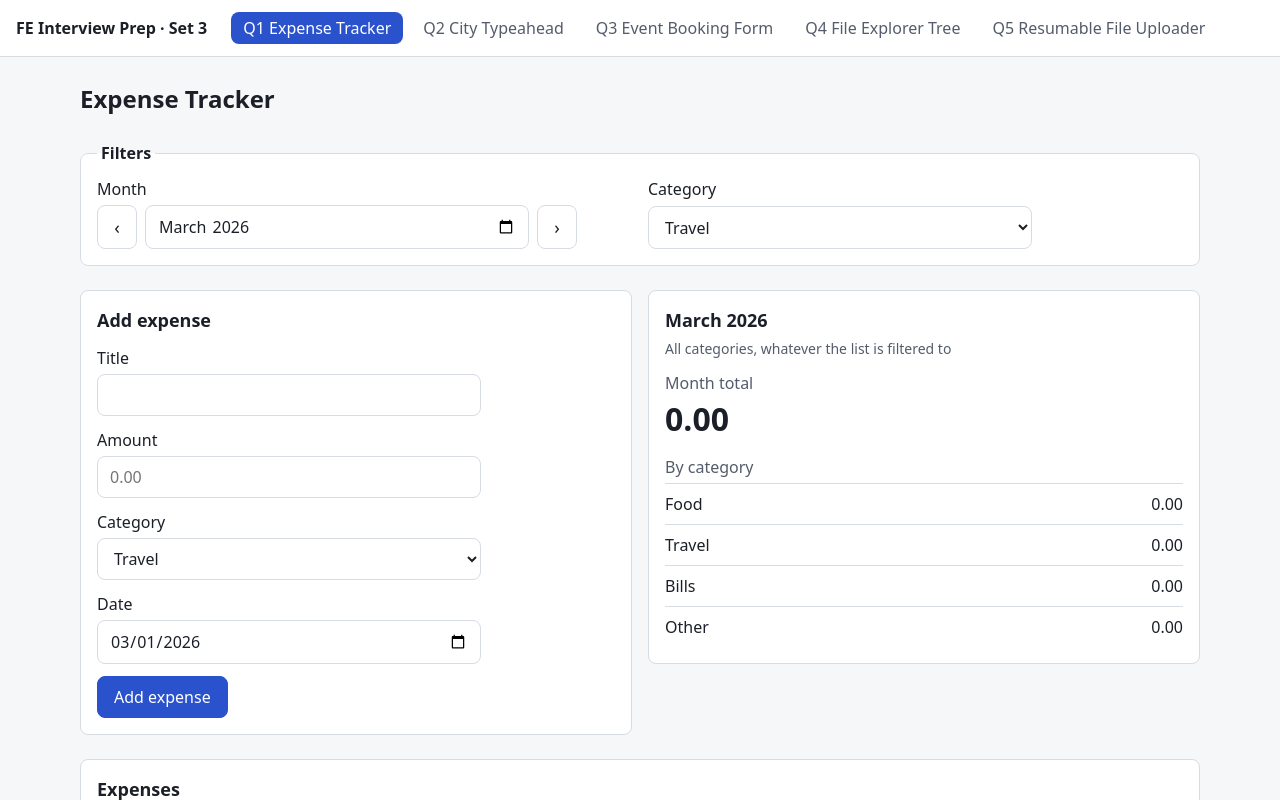
Scenario: ExpensesPage › adds a new expense into the viewed month and category and says where it went
This screenshot has width=1280, height=800.
Expected: the date field labelled "Date" holds "2026-03-01", [97,620,481,664]
Expected: the dropdown labelled "Category" below "Title" shows "Travel", [97,538,481,580]
Type "Taxi" into the field labelled "Title" at {"x": 289, "y": 395}, box [97,374,481,416]
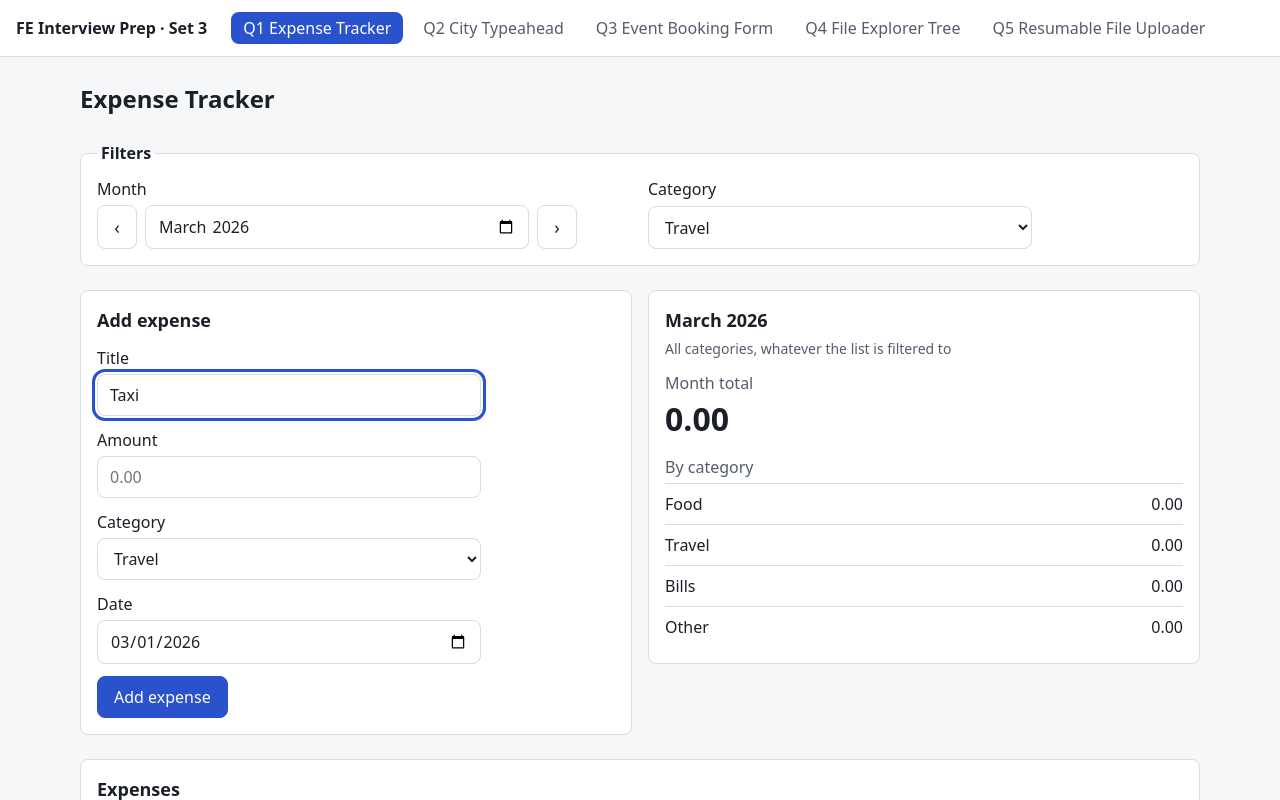
Type "12" into the field labelled "Amount" at {"x": 289, "y": 477}, box [97,456,481,498]
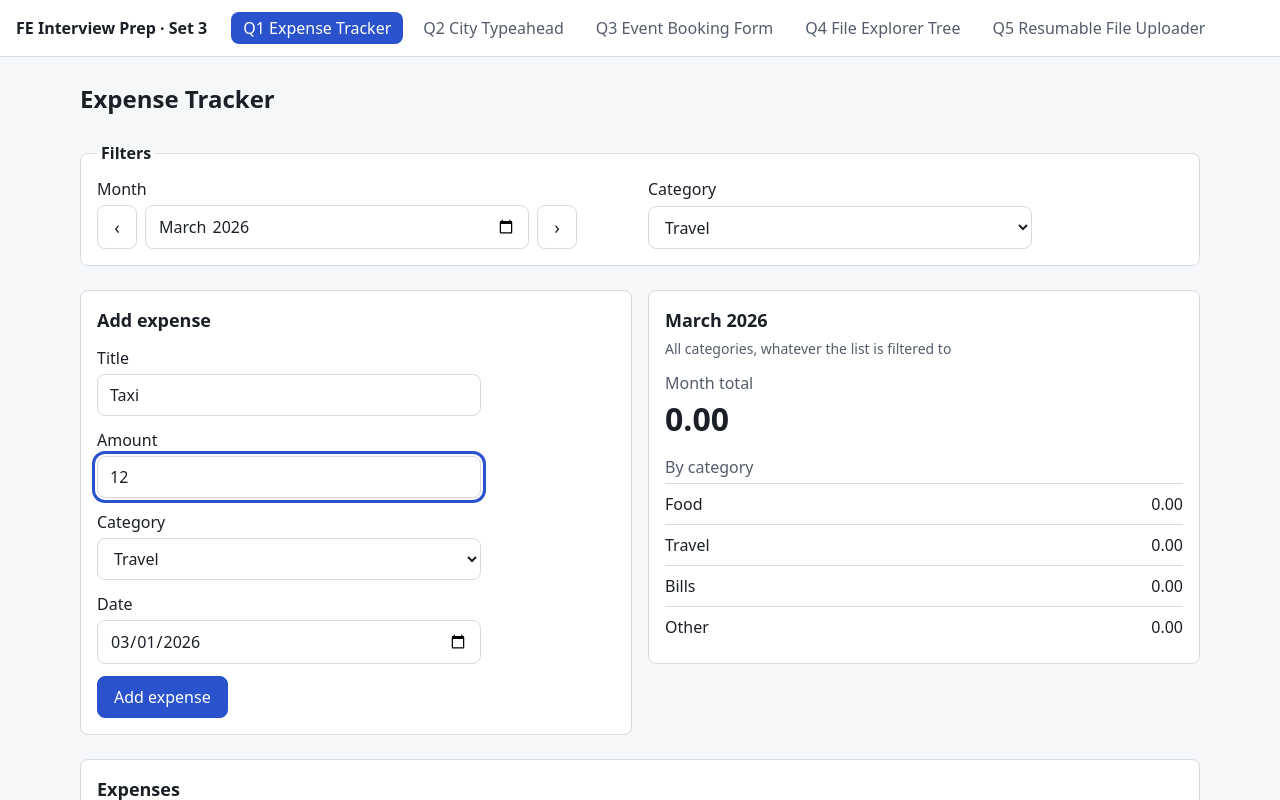
Click the button "Add expense" at {"x": 162, "y": 697}, box [97,676,228,718]
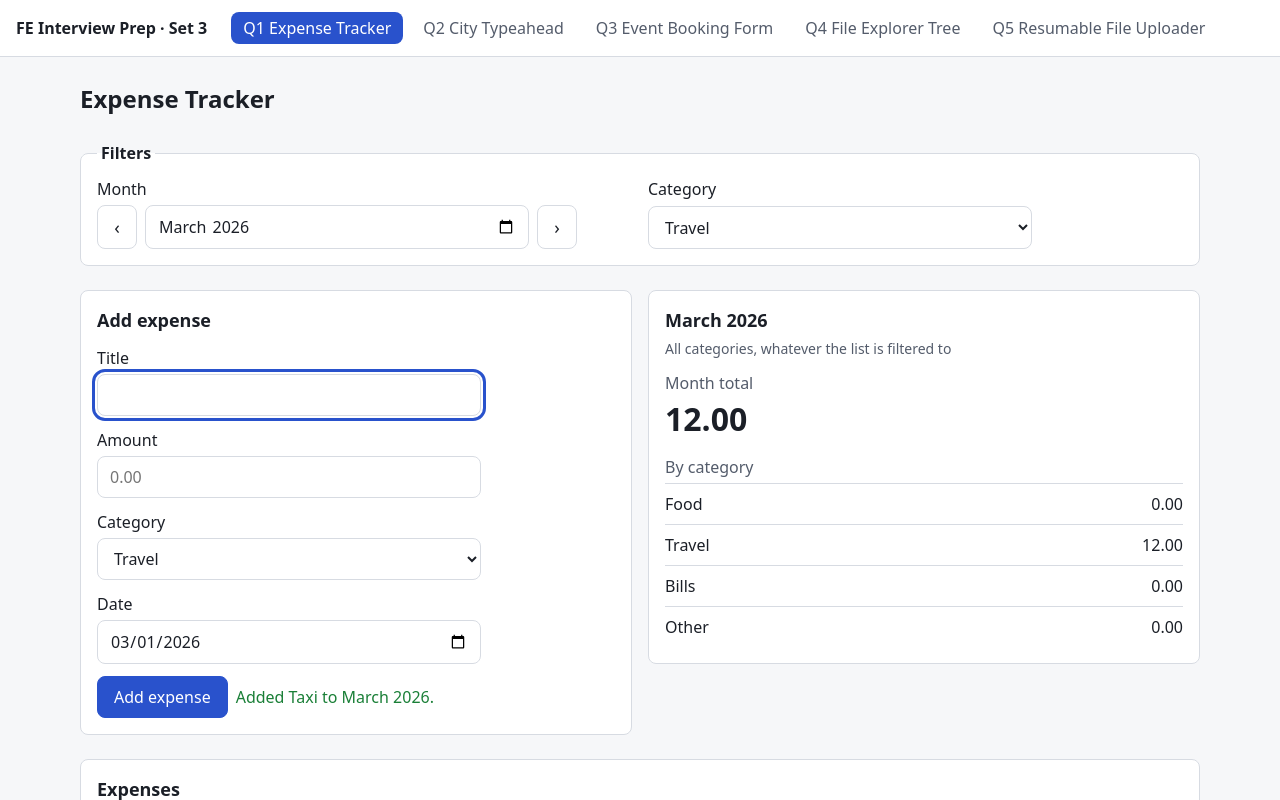
Expected: the message reads "Added Taxi to March 2026.", [236,686,434,708]
A category the user has not picked follows the filter while the form is open.
Select "All categories" in the 1st dropdown labelled "Category" at {"x": 840, "y": 228}, box [648,206,1032,249]
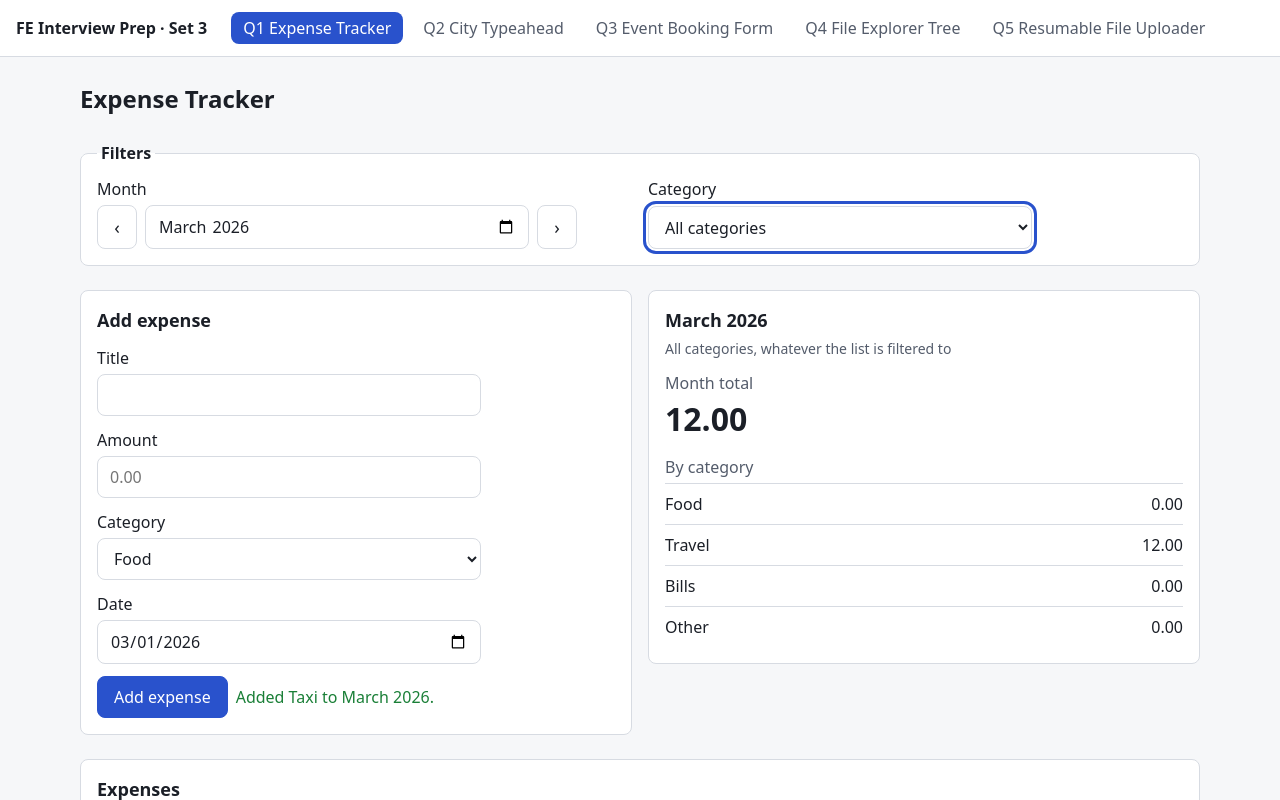
Expected: the dropdown labelled "Category" below "Title" shows "Food", [97,538,481,580]
